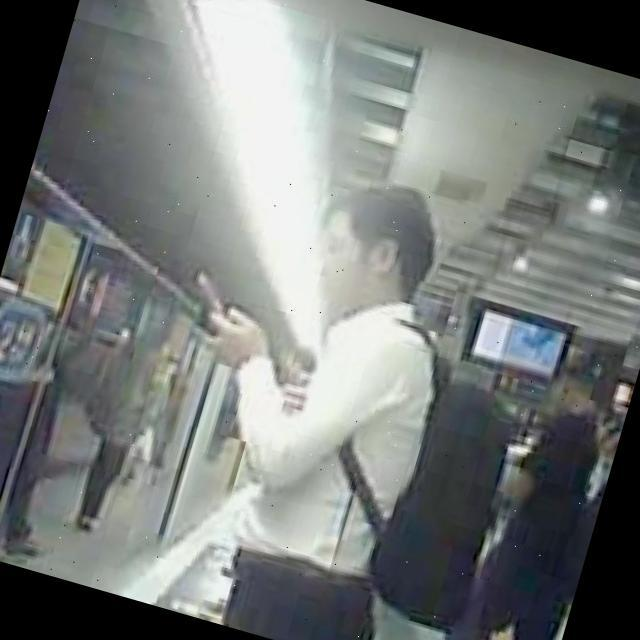person: (124, 147, 491, 640), (434, 349, 635, 640)
